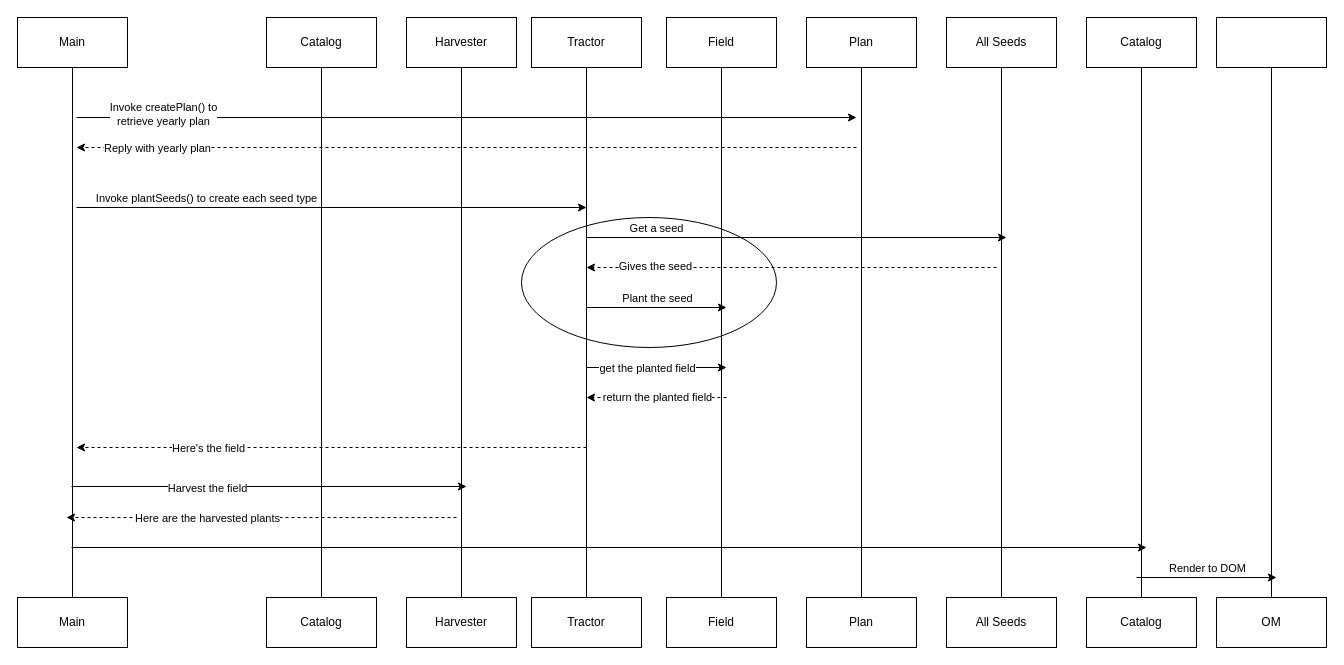
The diagram is 1344 pixels wide and 665 high, and some of its shapes have lost their labels. The shapes that lost their labels are listed below. From the top down, each one's centre as x and y in pixels, then its label:
point 1271,42: DOM
point 648,282: Loops through
